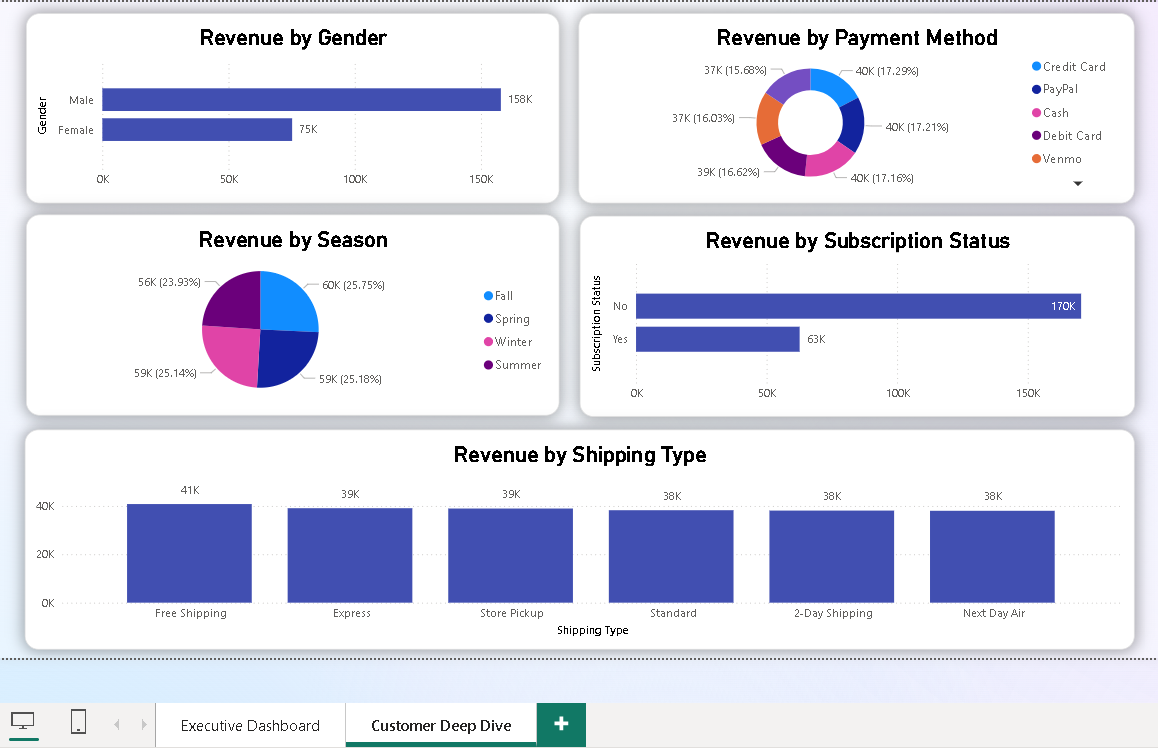

The dashboard page shown, as its layout file describes it:
{"tool":"powerbi","page":{"name":"Customer Deep Dive","canvas":[1280,720],"ordinal":1},"visuals":[{"type":"clusteredBarChart","title":"Revenue by Gender","fields":{"Category":["customer_shopping_behavior_cleaned.Gender"],"Y":["Sum(customer_shopping_behavior_cleaned.Purchase Amount (USD))"]},"box":[32.9,12.3,585.9,208.6],"z":0},{"type":"pieChart","title":"Revenue by Season","fields":{"Category":["customer_shopping_behavior_cleaned.Season"],"Y":["Sum(customer_shopping_behavior_cleaned.Purchase Amount (USD))"]},"box":[32.9,233.3,585.9,220.9],"z":1},{"type":"donutChart","title":"Revenue by Payment Method","fields":{"Category":["customer_shopping_behavior_cleaned.Payment Method"],"Y":["Sum(customer_shopping_behavior_cleaned.Purchase Amount (USD))"]},"box":[639.5,12.3,610.6,208.6],"z":2},{"type":"clusteredBarChart","title":"Revenue by Subscription Status","fields":{"Category":["customer_shopping_behavior_cleaned.Subscription Status"],"Y":["Sum(customer_shopping_behavior_cleaned.Purchase Amount (USD))"]},"box":[640.8,234.6,609.3,220.9],"z":3},{"type":"lineClusteredColumnComboChart","title":"Revenue by Shipping Type","fields":{"Category":["customer_shopping_behavior_cleaned.Shipping Type"],"Y":["Sum(customer_shopping_behavior_cleaned.Purchase Amount (USD))"]},"box":[31.6,469.3,1218.5,241.5],"z":4}]}

Visuals, with their boxes on the page's 1280x720 design canvas (x1, y1, x2, y2). These are canvas units, not pixel positions in the 1158x748 screenshot, which may show the page scaled, cropped or inside an application window:
"Revenue by Gender" clusteredBarChart: <region>33, 12, 619, 221</region>
"Revenue by Season" pieChart: <region>33, 233, 619, 454</region>
"Revenue by Payment Method" donutChart: <region>640, 12, 1250, 221</region>
"Revenue by Subscription Status" clusteredBarChart: <region>641, 235, 1250, 456</region>
"Revenue by Shipping Type" lineClusteredColumnComboChart: <region>32, 469, 1250, 711</region>
